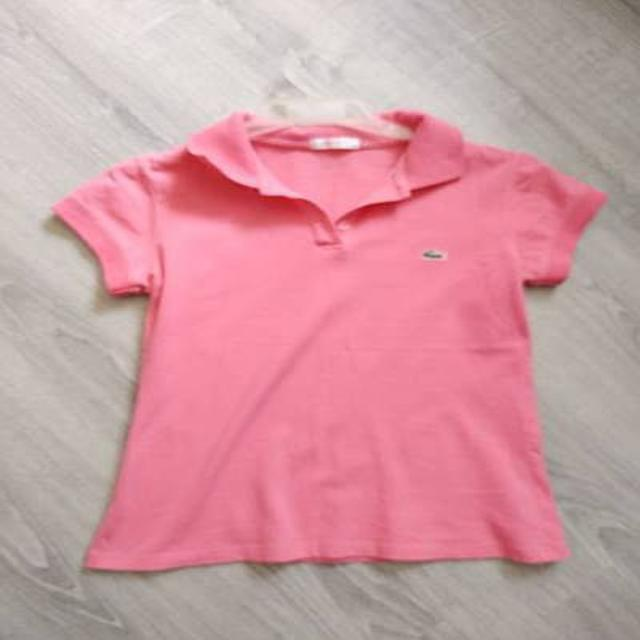T_SHIRT: (48, 101, 606, 588)
